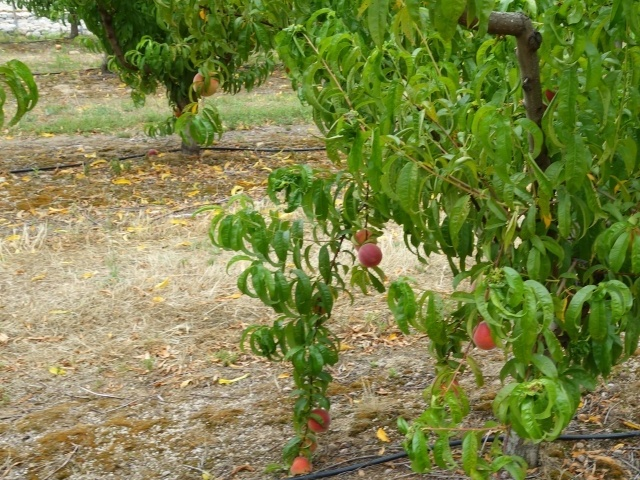peach: (468, 319, 500, 353), (190, 70, 221, 100), (356, 241, 385, 270), (305, 406, 334, 434), (353, 224, 380, 253), (286, 454, 316, 479)
